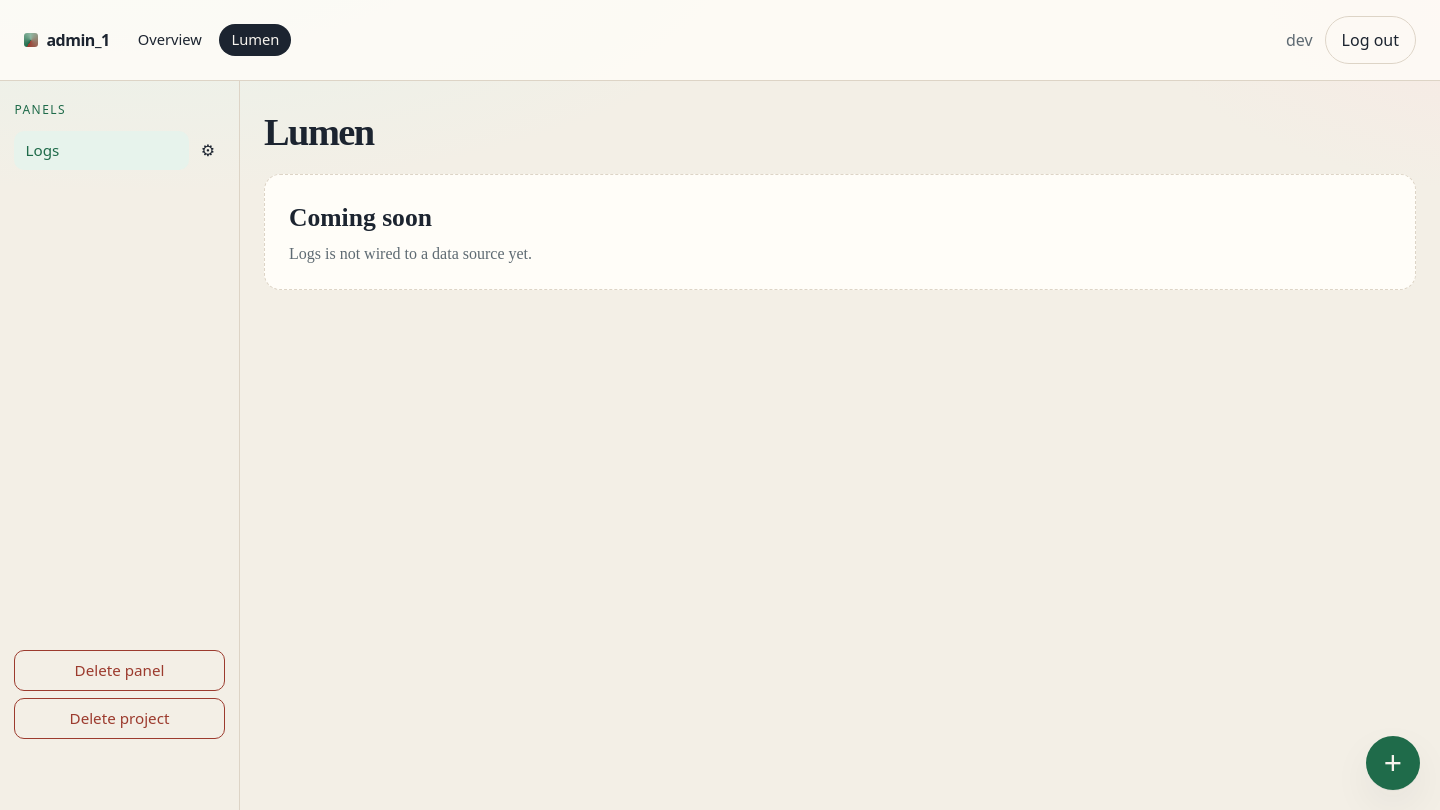
Test: delete project › keeps confirm disabled until DELETE and submits on Enter
The width and height of the screenshot is (1440, 810).
Click the button "Delete project". click: (120, 718)
box: [14,698,225,739]
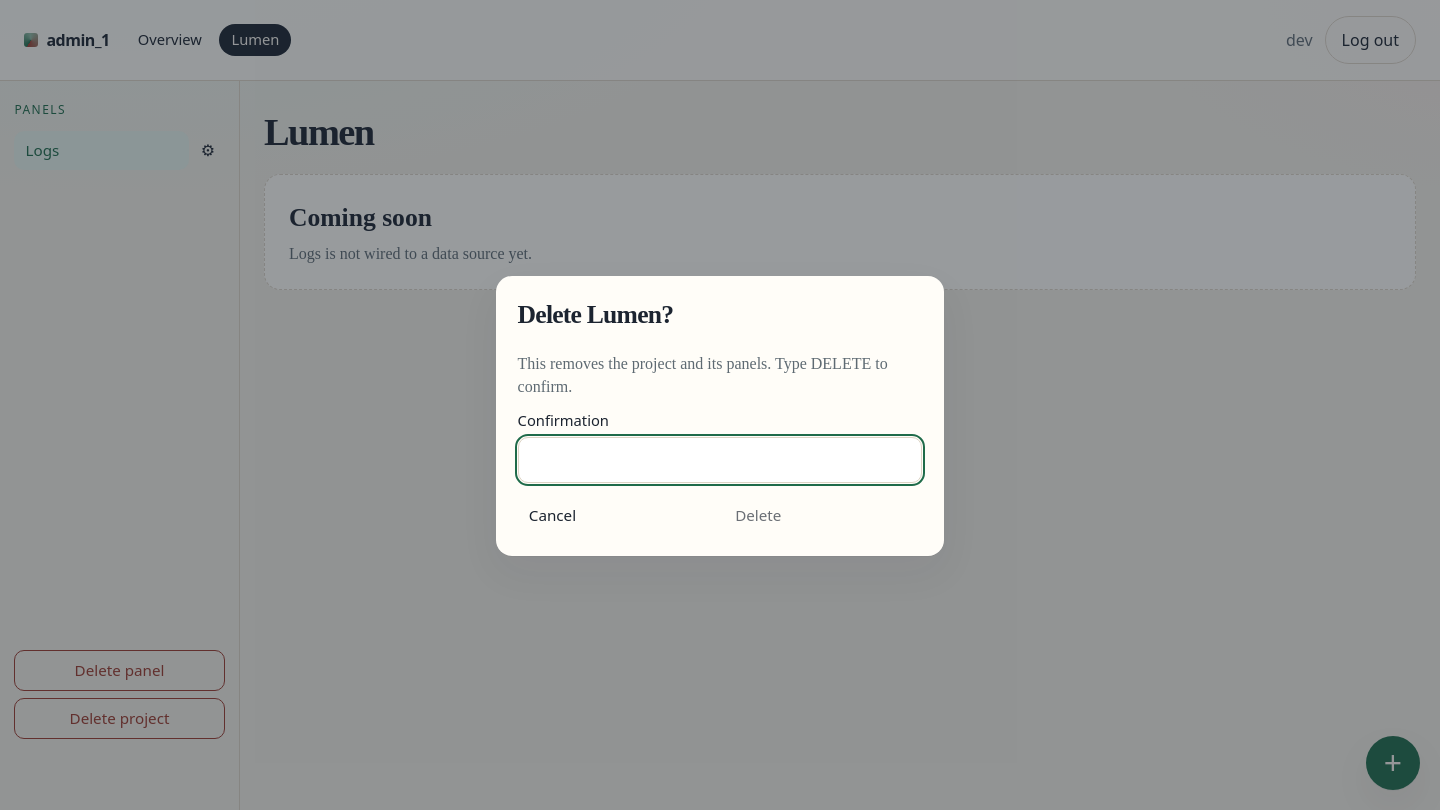
Check: the button "Delete" is disabled, box [724,495,922,534]
Type "delete" into the field labelled "Confirmation". click: (720, 460)
box: [518,437,922,483]
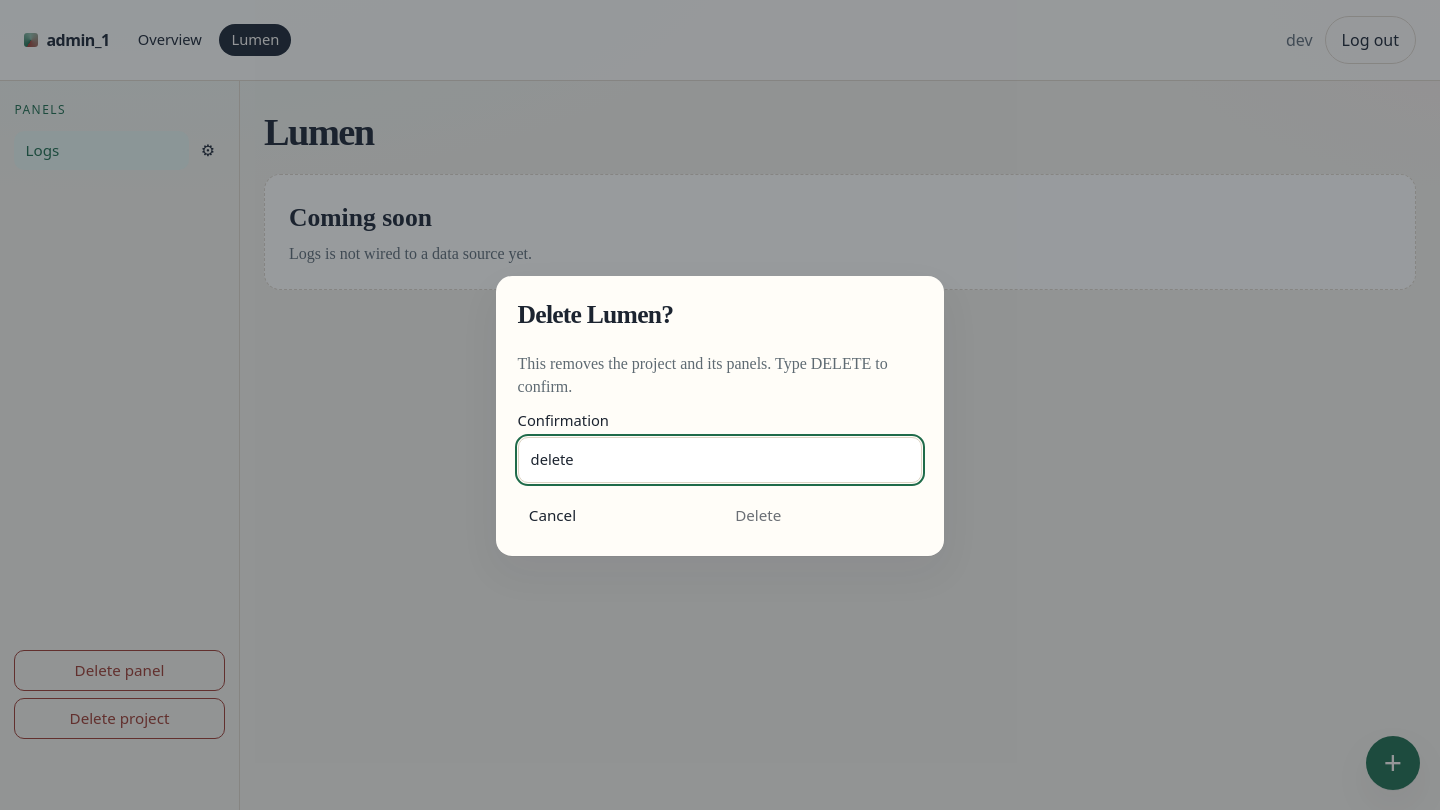
Check: the button "Delete" is disabled, box [724,495,922,534]
Replace the text in the field labelled "Confirmation" with "DELET". click: (720, 460)
box: [518,437,922,483]
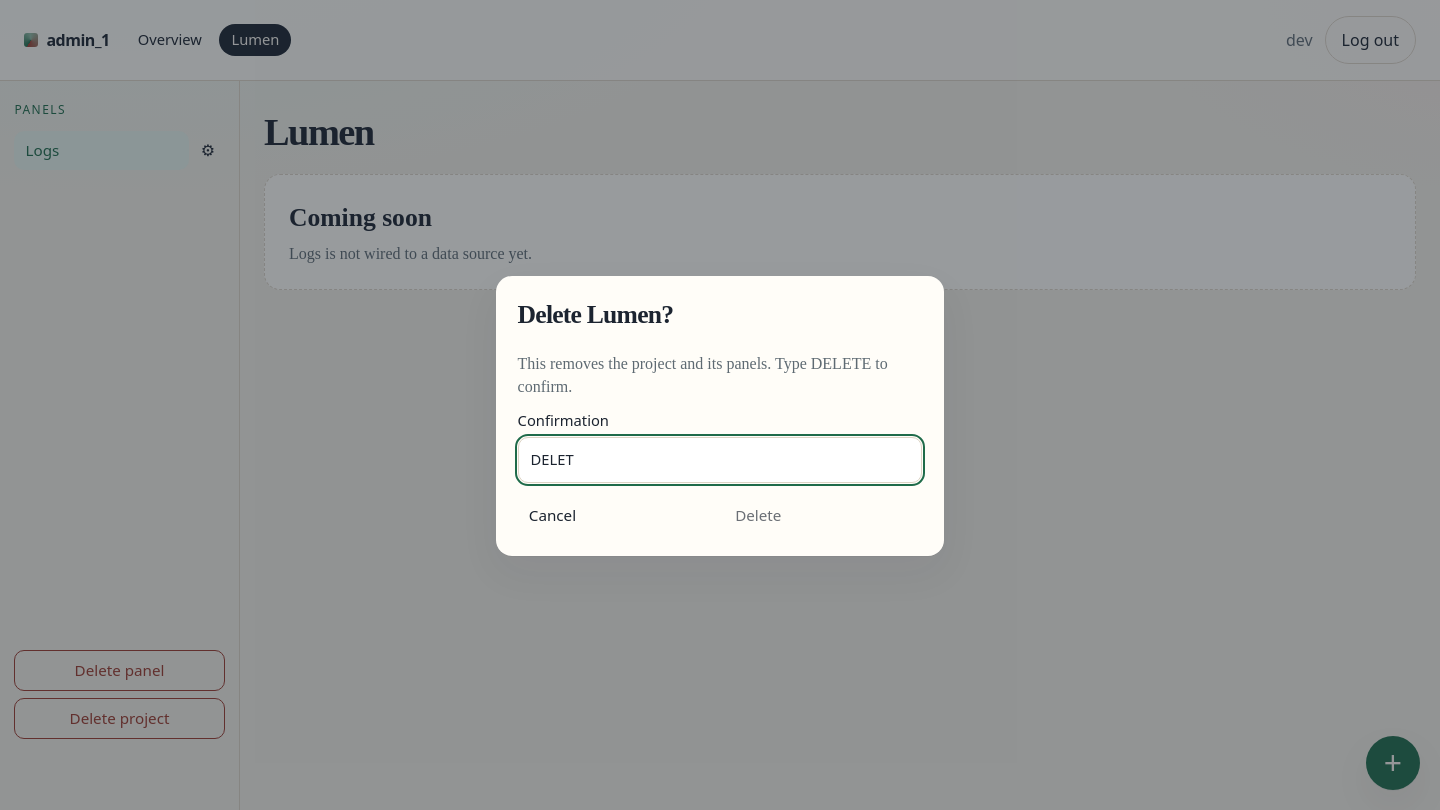
Check: the button "Delete" is disabled, box [724,495,922,534]
Type "E" into the field labelled "Confirmation". click: (720, 460)
box: [518,437,922,483]
Then press Enter
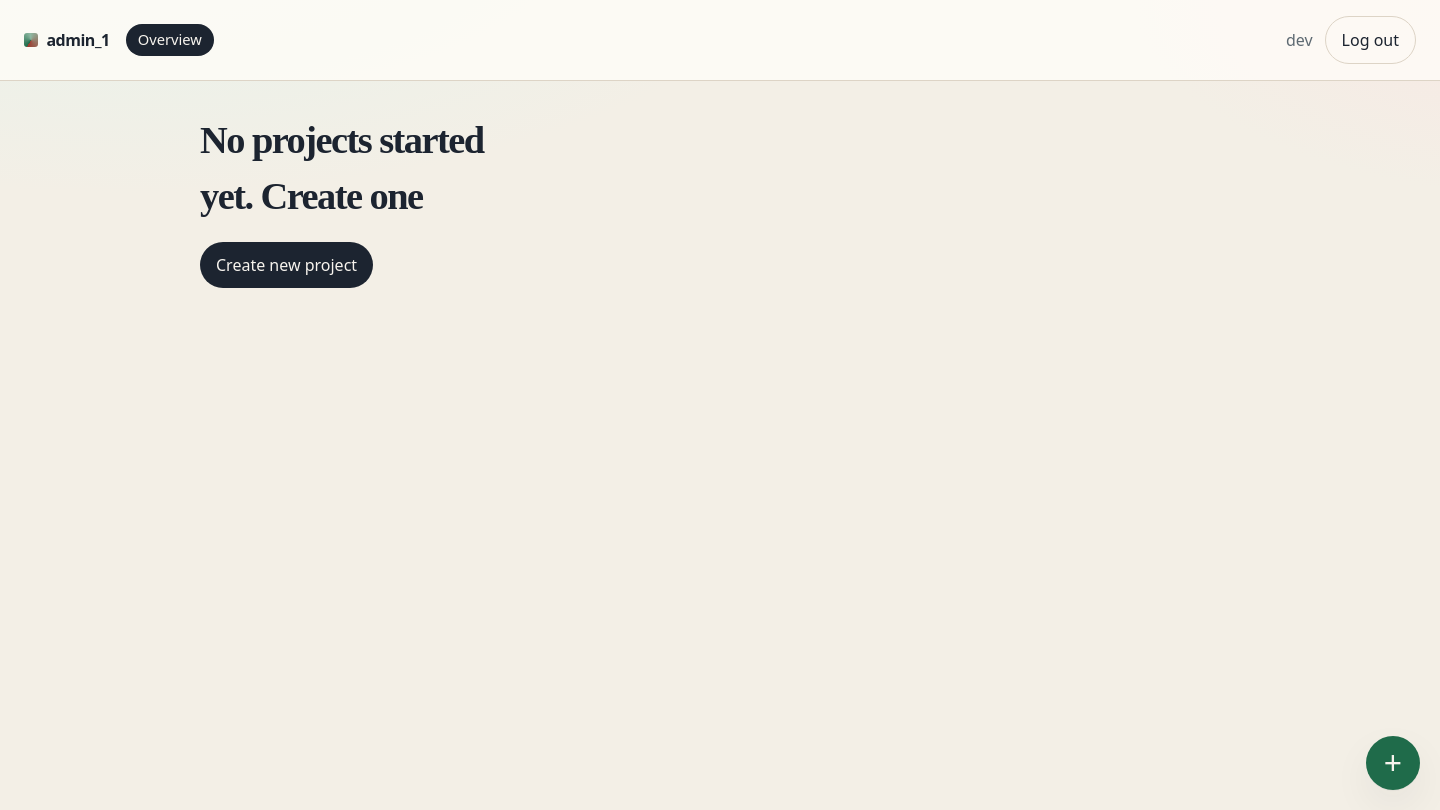
Check: the heading "No projects started yet. Create one" is shown, box [200,113,507,225]
Check: the link "Lumen" is gone
Check: the heading "Delete Lumen?" is gone
